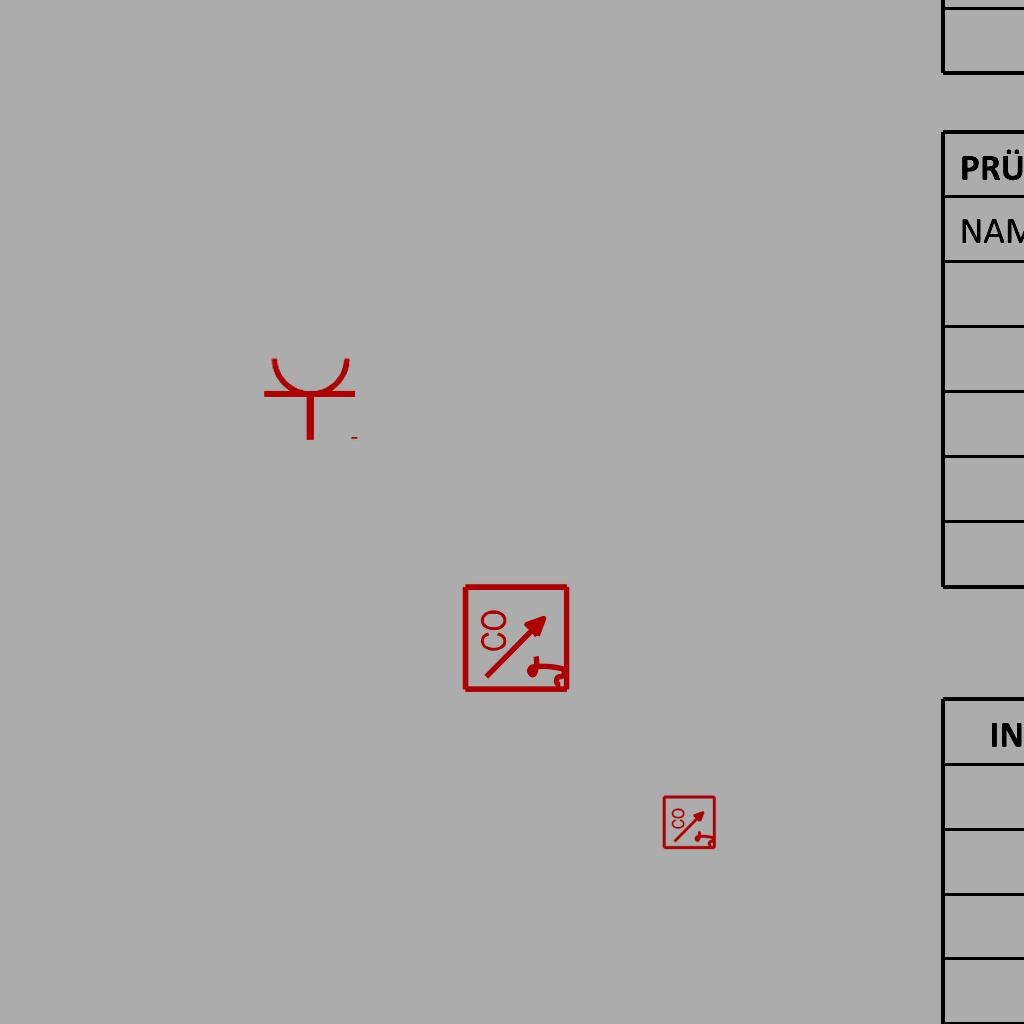ROA_Rauchmelder_optisch_mit_Signalgeber_(Sockelsirene): (461, 581, 574, 694), (662, 794, 718, 850)
Schukosteckdose_einfach: (262, 355, 362, 442)
